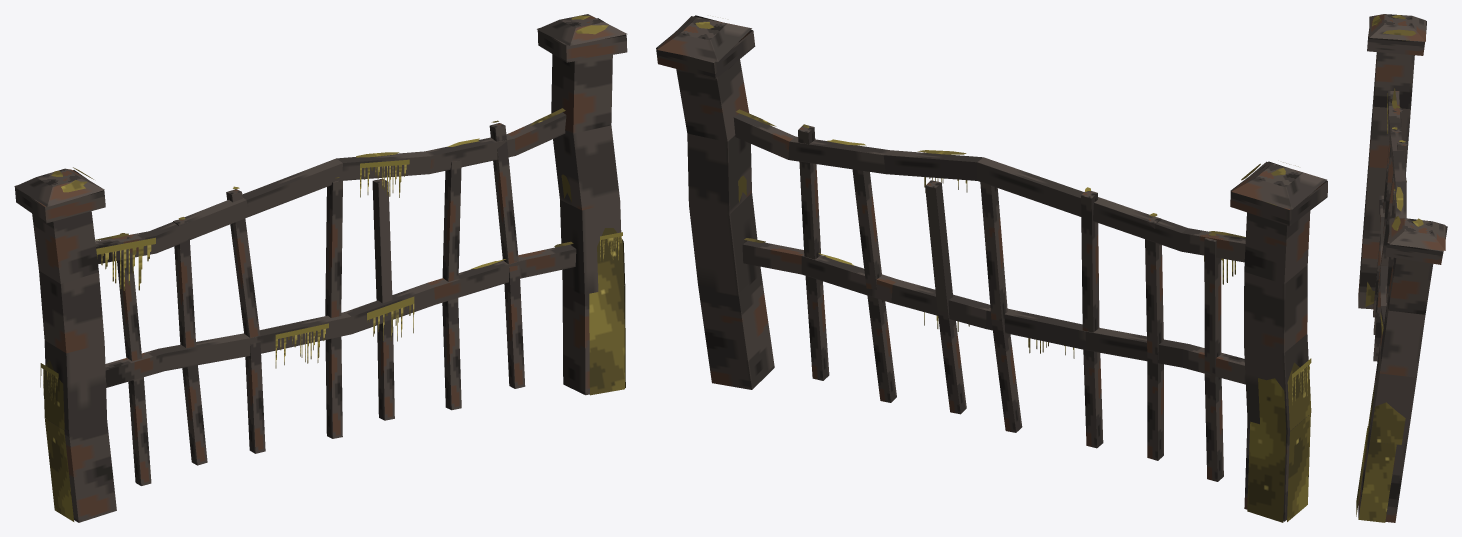
File: SM_SW25_GraveFenceTilted.fbx
3 renders of one model, left to right at view 1: azimuth 30°, elevation 25°; view 2: azimuth 150°, elevation 25°; view 3: azimuth 270°, elevation 25°, orthographic. The views are drawn at different scales.
Parts seen in each view (by area): view 1: SW25a_Props, SW25a_Moss, SW25a_Plants; view 2: SW25a_Props, SW25a_Moss, SW25a_Plants; view 3: SW25a_Props, SW25a_Moss.
Boxes of the visible parts, x1,y1,x2,y2 form: SW25a_Props: [14, 14, 627, 522]; SW25a_Moss: [44, 15, 625, 521]; SW25a_Plants: [40, 159, 622, 407]; SW25a_Props: [656, 15, 1327, 521]; SW25a_Moss: [695, 22, 1311, 522]; SW25a_Plants: [924, 177, 1311, 408]; SW25a_Props: [1358, 14, 1447, 522]; SW25a_Moss: [1356, 15, 1423, 522].
Bounding box in the file's own units: 2.12 × 1.2 × 0.3331.
